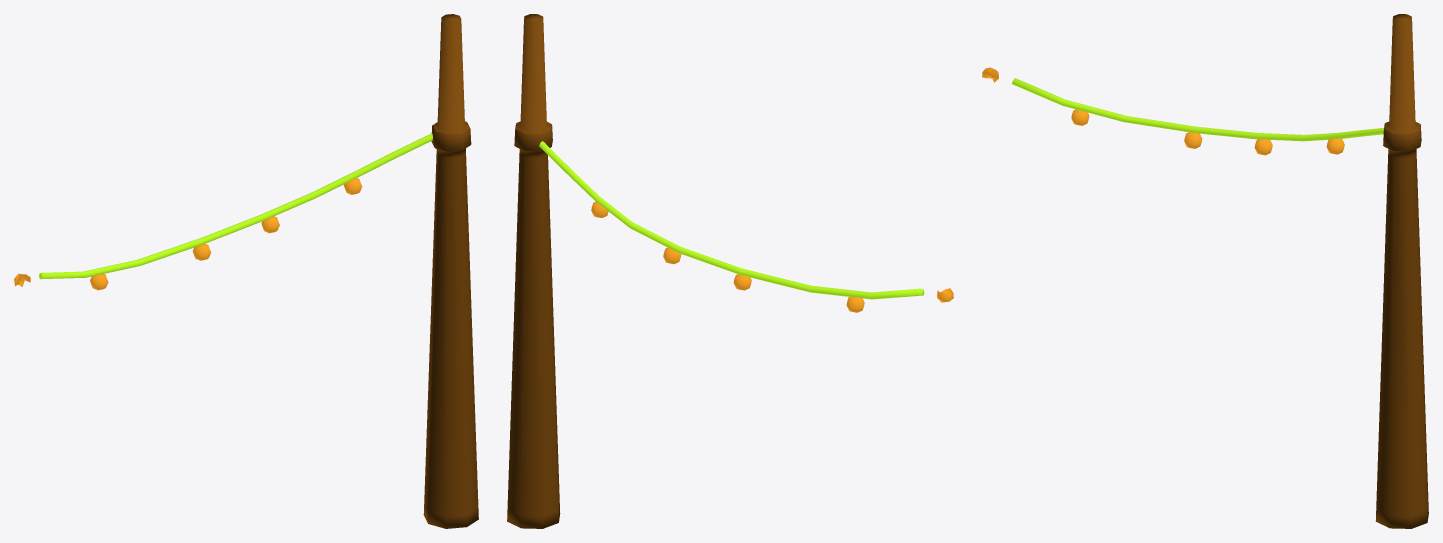
File: stringLights-optimized.glb
3 renders of one model, left to right at view 1: azimuth 30°, elevation 25°; view 2: azimuth 150°, elevation 25°; view 3: azimuth 330°, elevation 25°, orthographic.
Parts seen in each view (by area): view 1: Cylinder.003; view 2: Cylinder.003; view 3: Cylinder.003.
Boxes of the visible parts, <box> form: Cylinder.003: <box>14,14,478,528</box>; Cylinder.003: <box>507,14,953,528</box>; Cylinder.003: <box>982,14,1428,528</box>.
Bounding box in the file's own units: 18.6 × 19.62 × 2.84.
Materials: 2 (2 with a texture image).
